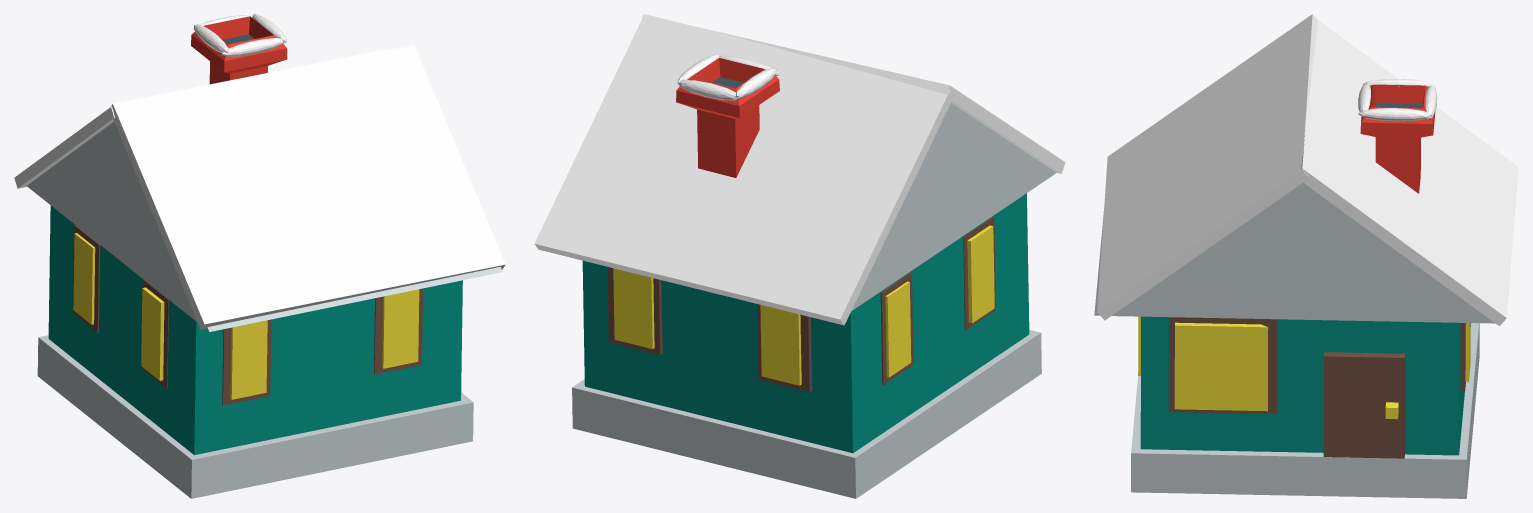
Rendered from casasnow_lev5.glb.
3 renders of one model, left to right at view 1: azimuth 30°, elevation 25°; view 2: azimuth 150°, elevation 25°; view 3: azimuth 270°, elevation 25°, orthographic. The views are drawn at different scales.
Parts seen in each view (by area): view 1: casasnow_lev5; view 2: casasnow_lev5; view 3: casasnow_lev5.
Boxes of the visible parts, x1,y1,x2,y2 form: casasnow_lev5: [14, 14, 505, 498]; casasnow_lev5: [534, 14, 1065, 498]; casasnow_lev5: [1094, 14, 1518, 498].
Size of the model in its own units: 15.31 by 16.34 by 17.97.
